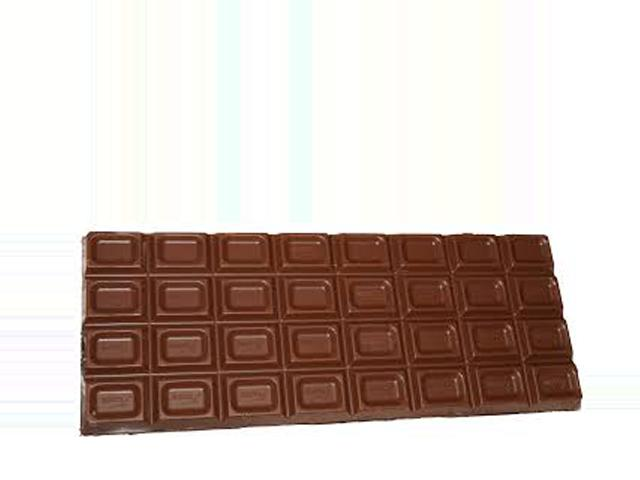chocolate: (74, 230, 587, 428)
